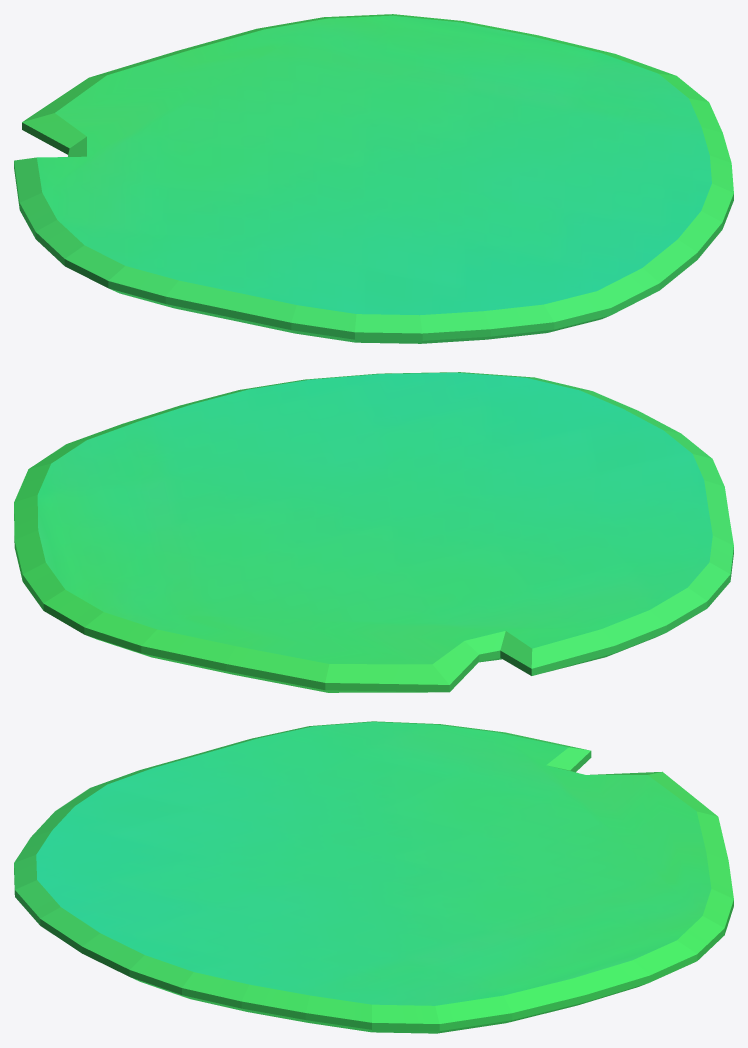
The model's file is LillyPad.fbx.
3 views of the same model, one above another, from view 1: azimuth 30°, elevation 25°; view 2: azimuth 150°, elevation 25°; view 3: azimuth 270°, elevation 25° (orthographic). The views are drawn at different scales.
Parts seen in each view (by area): view 1: LillyPadWithFlower; view 2: LillyPadWithFlower; view 3: LillyPadWithFlower.
Part boxes in pixels (x1,y1,x2,y2): LillyPadWithFlower: (14,14,733,343); LillyPadWithFlower: (14,372,733,692); LillyPadWithFlower: (14,721,733,1033).
Bounding box in the file's own units: 208 × 7.83 × 209.
